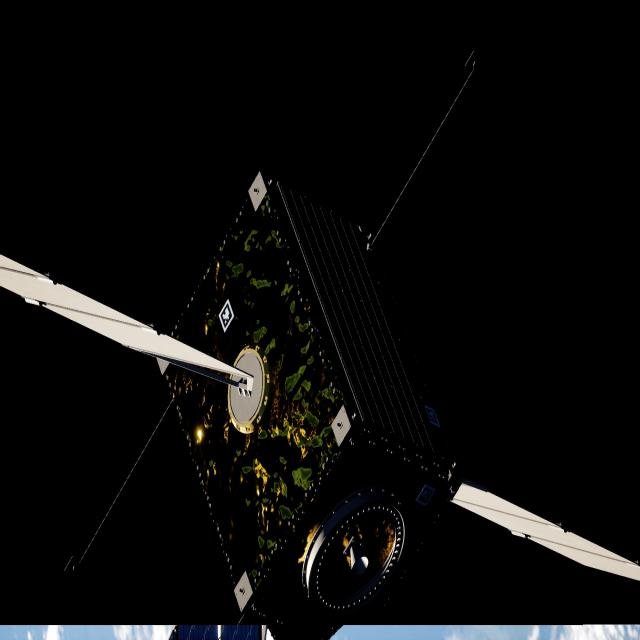satellite: (0, 172, 640, 640)
